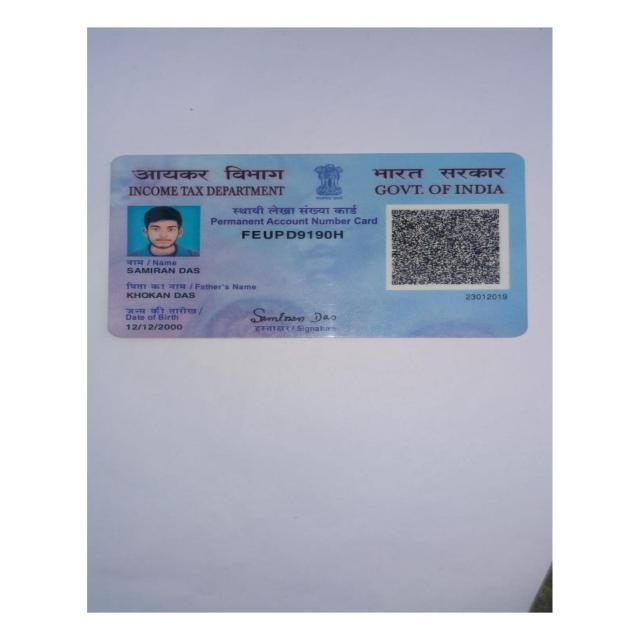pan_card: (110, 156, 524, 337)
